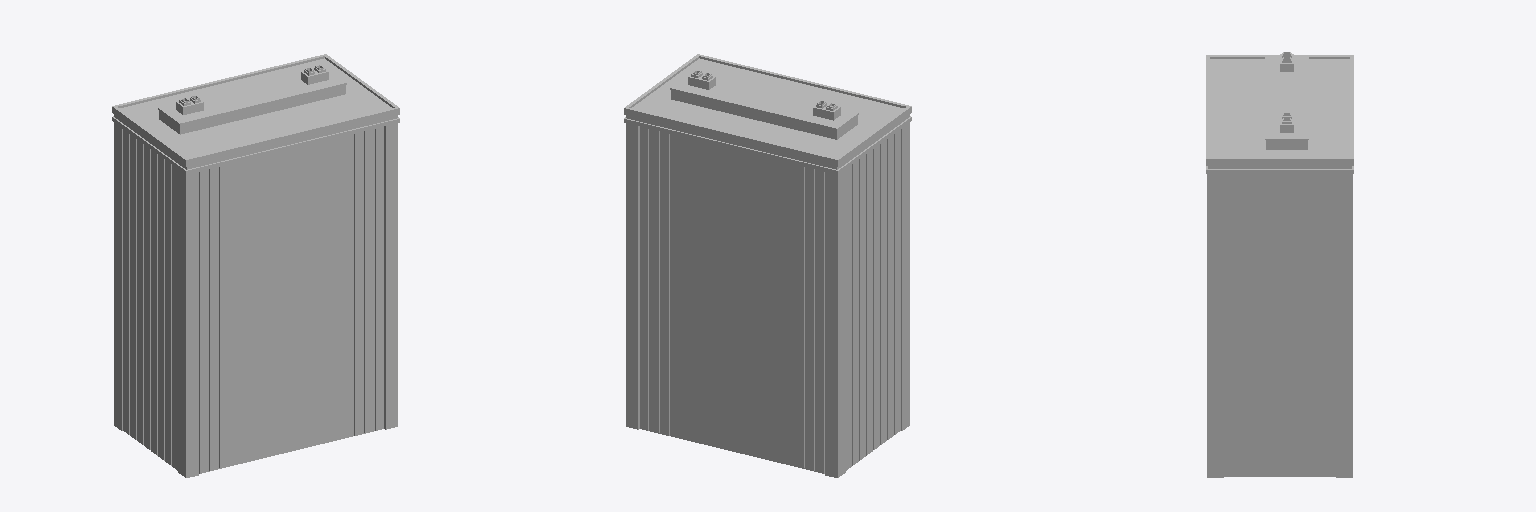
3 renders of one model, left to right at view 1: azimuth 30°, elevation 25°; view 2: azimuth 150°, elevation 25°; view 3: azimuth 270°, elevation 25°, orthographic.
Visible parts, largest first — view 1: Highrise_14; view 2: Highrise_14; view 3: Highrise_14.
Boxes of the visible parts, x1=… form: Highrise_14: x1=112, y1=54, x2=399, y2=477; Highrise_14: x1=624, y1=54, x2=911, y2=477; Highrise_14: x1=1206, y1=52, x2=1353, y2=477.
Bounding box in the file's own units: 353 × 536 × 211.